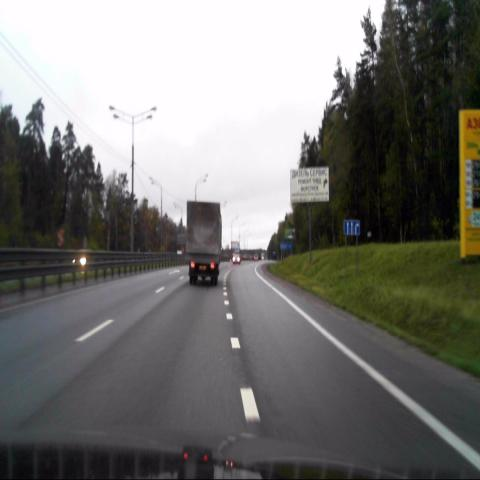5_15_1: (344, 219, 360, 235)
